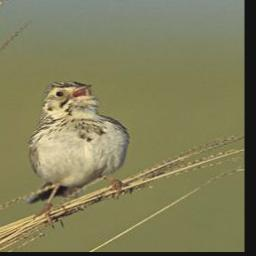Sparrow: (28, 79, 134, 229)
